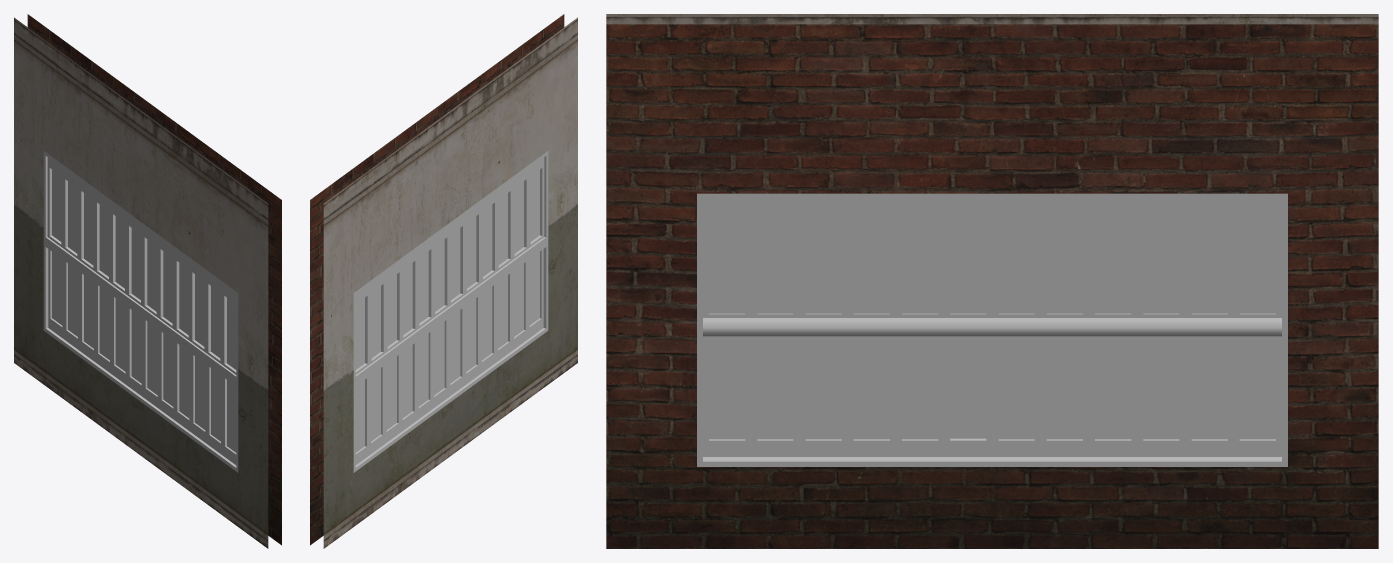
The model's file is walltile_windowlong_256x8x192.fbx.
3 views of the same model, side by side, from view 1: azimuth 30°, elevation 25°; view 2: azimuth 150°, elevation 25°; view 3: azimuth 270°, elevation 25° (orthographic). The views are drawn at different scales.
Visible parts, largest first — view 1: walltile_windowlong_256x16x192; view 2: walltile_windowlong_256x16x192; view 3: walltile_windowlong_256x16x192.
Boxes of the visible parts, x1,y1,x2,y2 form: walltile_windowlong_256x16x192: [14, 14, 281, 548]; walltile_windowlong_256x16x192: [310, 14, 577, 548]; walltile_windowlong_256x16x192: [606, 14, 1378, 548].
Size of the model in its own units: 8 by 192 by 256.
